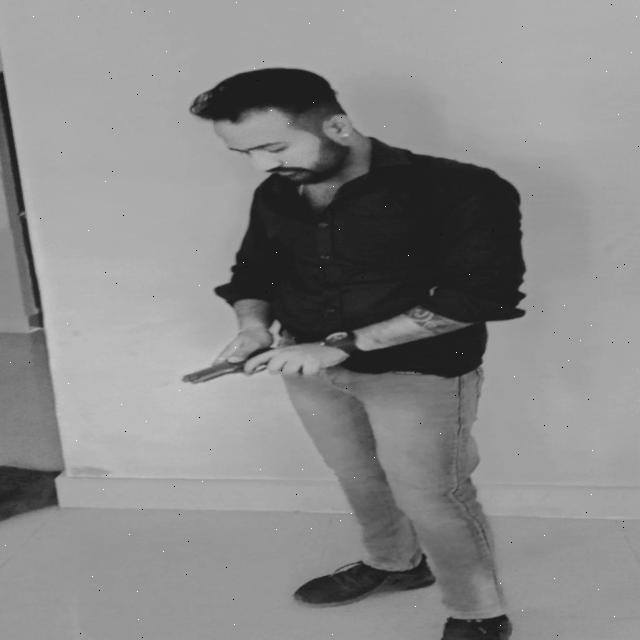gun: (158, 329, 355, 395)
